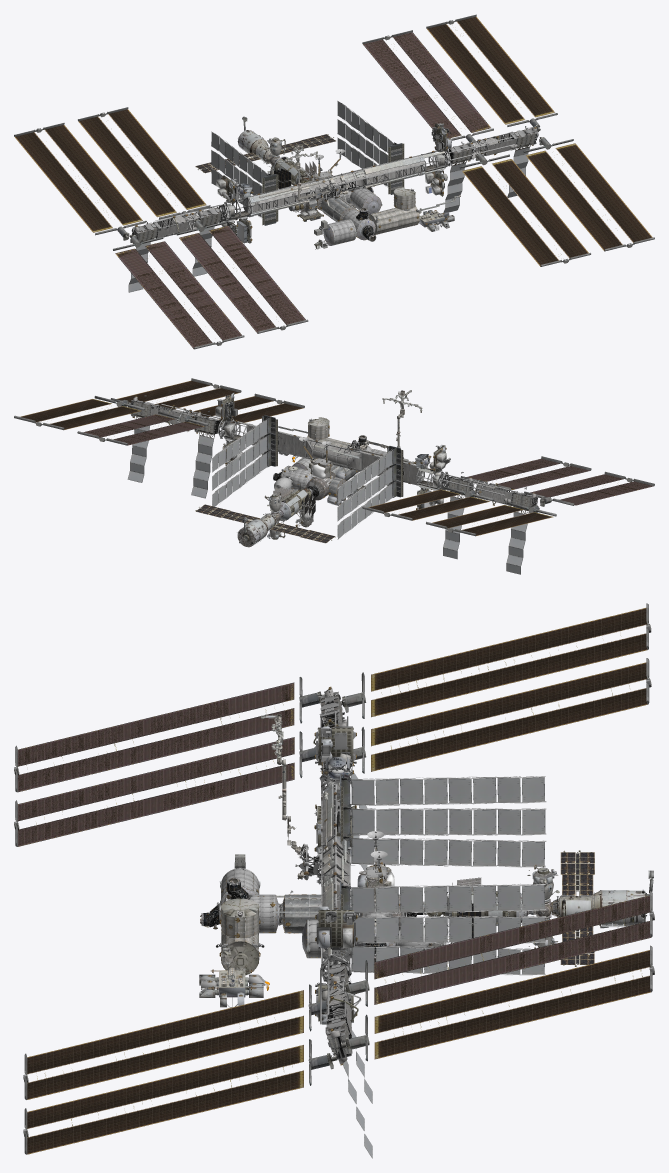
Rendered from intl_iss.glb.
The picture shows the model from 3 angles, top to bottom: view 1: azimuth 30°, elevation 25°; view 2: azimuth 150°, elevation 25°; view 3: azimuth 270°, elevation 25°; orthographic projection. The views are drawn at different scales.
Visible parts, largest first — view 1: 32 S6 Truss, 08 P6 Truss, 23 S4 Truss_02, 23 S4 Truss_01, 20 P4 Truss_01, 20 P4 Truss_02, 17 P1 Truss, 16 S1 Truss, p6_ani.007, p6_ani.003, p6_ani.006, s0_ani.004 (+10 smaller); view 2: 32 S6 Truss, 08 P6 Truss, 17 P1 Truss, 16 S1 Truss, 20 P4 Truss_02, 23 S4 Truss_02, 23 S4 Truss_01, p6_ani.003, p6_ani.006, p6_ani.007, 20 P4 Truss_01, p6_ani.000 (+14 smaller); view 3: 08 P6 Truss, 32 S6 Truss, 16 S1 Truss, 17 P1 Truss, 20 P4 Truss_01, 20 P4 Truss_02, 23 S4 Truss_02, 23 S4 Truss_01, sm_ext_sm.000, p6_ani.007, 43 Express Logistics Carrier (ELC) 3, s0_ani.000 (+10 smaller).
Part boxes in pixels (bbox=[...]): 32 S6 Truss: bbox=[14, 122, 244, 349]; 08 P6 Truss: bbox=[426, 14, 654, 251]; 23 S4 Truss_02: bbox=[78, 107, 209, 219]; 23 S4 Truss_01: bbox=[176, 220, 308, 333]; 20 P4 Truss_01: bbox=[459, 154, 590, 266]; 20 P4 Truss_02: bbox=[362, 30, 493, 142]; 17 P1 Truss: bbox=[337, 100, 404, 194]; 16 S1 Truss: bbox=[211, 131, 278, 225]; p6_ani.007: bbox=[483, 124, 544, 197]; p6_ani.003: bbox=[123, 215, 188, 292]; p6_ani.006: bbox=[443, 137, 514, 212]; s0_ani.004: bbox=[363, 154, 425, 188]; 32 S6 Truss: bbox=[426, 471, 654, 536]; 08 P6 Truss: bbox=[14, 378, 241, 430]; 17 P1 Truss: bbox=[212, 415, 279, 506]; 16 S1 Truss: bbox=[337, 446, 404, 539]; 20 P4 Truss_02: bbox=[77, 411, 208, 445]; 23 S4 Truss_02: bbox=[362, 486, 493, 520]; 23 S4 Truss_01: bbox=[460, 456, 591, 489]; p6_ani.003: bbox=[481, 483, 545, 574]; p6_ani.006: bbox=[161, 404, 227, 498]; p6_ani.007: bbox=[124, 395, 184, 482]; 20 P4 Truss_01: bbox=[190, 393, 304, 426]; p6_ani.000: bbox=[439, 471, 508, 559]; 08 P6 Truss: bbox=[23, 945, 654, 1154]; 32 S6 Truss: bbox=[14, 603, 651, 792]; 16 S1 Truss: bbox=[336, 774, 546, 867]; 17 P1 Truss: bbox=[340, 882, 546, 975]; 20 P4 Truss_01: bbox=[23, 984, 326, 1099]; 20 P4 Truss_02: bbox=[348, 891, 654, 1006]; 23 S4 Truss_02: bbox=[353, 658, 651, 773]; 23 S4 Truss_01: bbox=[14, 731, 318, 846]; sm_ext_sm.000: bbox=[531, 870, 653, 928]; p6_ani.007: bbox=[325, 992, 372, 1158]; 43 Express Logistics Carrier (ELC) 3: bbox=[315, 906, 357, 951]; s0_ani.000: bbox=[273, 834, 351, 912].
Bounding box in the file's own units: 112 × 30.36 × 76.48.
Materials: 42 (24 with a texture image).
